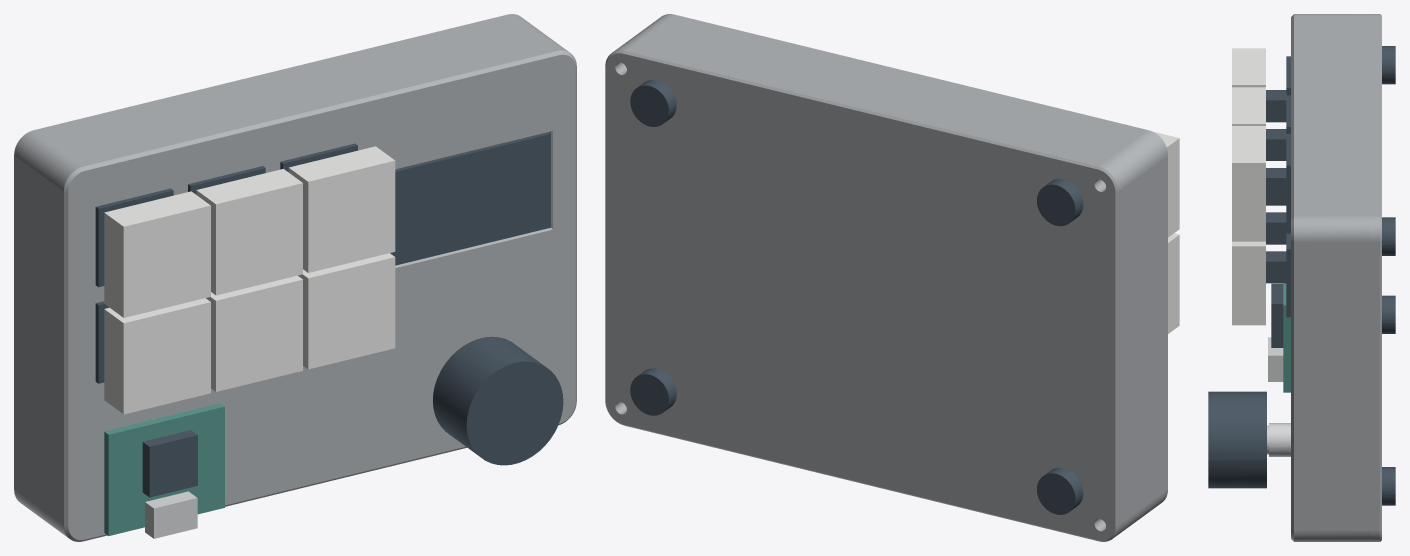
Rendered from .compact_model.step.glb.
3 renders of one model, left to right at view 1: azimuth 30°, elevation 25°; view 2: azimuth 150°, elevation 25°; view 3: azimuth 270°, elevation 25°, orthographic. The views are drawn at different scales.
Visible parts, largest first — view 1: o1.1, o1.29, o1.39, o1.17, o1.5, o1.25, o1.21, o1.13, o1.9, o1.30, o1.2, o1.31 (+5 smaller); view 2: o1.2, o1.1, o1.41, o1.40, o1.42, o1.43, o1.17, o1.5; view 3: o1.1, o1.2, o1.39, o1.25, o1.13, o1.17, o1.21, o1.24, o1.12, o1.16, o1.20, o1.31 (+8 smaller).
Boxes of the visible parts, box(x1,y1,x2,y2) form: o1.1: box(19, 18, 576, 541); o1.29: box(390, 132, 550, 265); o1.39: box(433, 336, 563, 465); o1.17: box(104, 191, 210, 317); o1.5: box(104, 298, 210, 414); o1.25: box(288, 146, 395, 272); o1.21: box(196, 169, 302, 295); o1.13: box(298, 253, 395, 369); o1.9: box(206, 275, 302, 391); o1.30: box(104, 403, 224, 535); o1.2: box(14, 14, 524, 505); o1.31: box(142, 430, 197, 497); o1.2: box(605, 46, 1123, 541); o1.1: box(619, 14, 1167, 533); o1.41: box(630, 368, 676, 415); o1.40: box(1037, 467, 1083, 514); o1.42: box(1037, 179, 1083, 226); o1.43: box(630, 79, 676, 126); o1.17: box(1153, 131, 1179, 237); o1.5: box(1168, 233, 1179, 333); o1.1: box(1291, 14, 1370, 541); o1.2: box(1370, 14, 1381, 541); o1.39: box(1208, 391, 1266, 488); o1.25: box(1232, 126, 1265, 241); o1.13: box(1232, 241, 1265, 325); o1.17: box(1232, 48, 1265, 87); o1.21: box(1232, 87, 1265, 125); o1.24: box(1266, 134, 1290, 233); o1.12: box(1266, 233, 1290, 317); o1.16: box(1266, 56, 1290, 122); o1.20: box(1266, 95, 1290, 160); o1.31: box(1271, 283, 1283, 347).
Size of the model in its own units: 0.106 by 0.074 by 0.0387.
